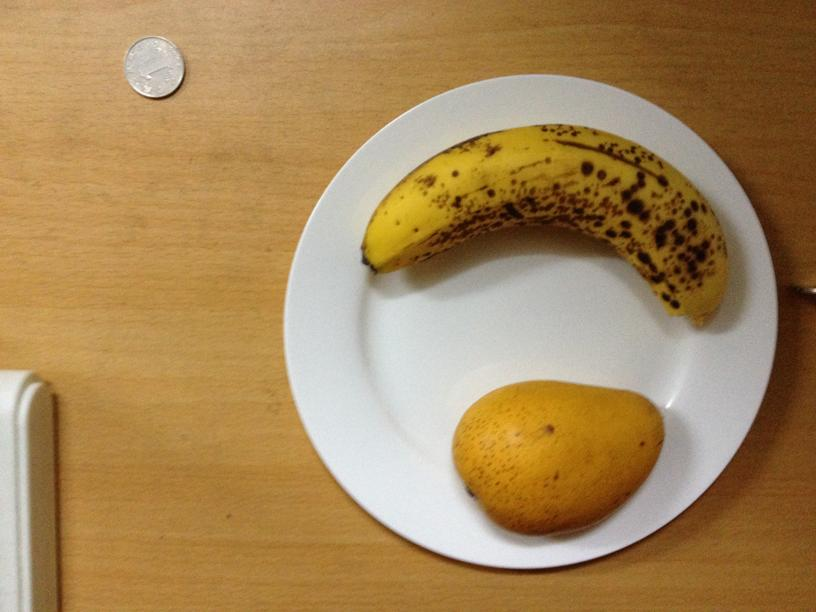banana: (360, 124, 729, 320)
coin: (120, 37, 183, 98)
mango: (453, 378, 666, 536)
